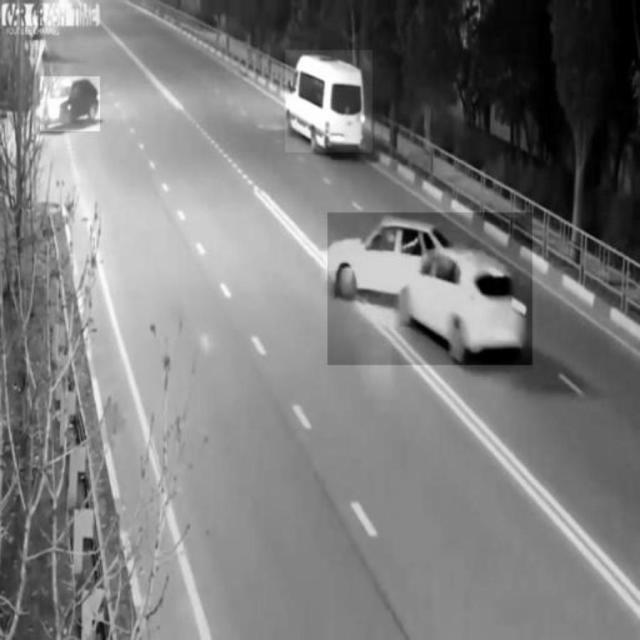accident: (328, 213, 533, 365)
vehicle: (285, 50, 373, 152), (40, 77, 100, 132)
